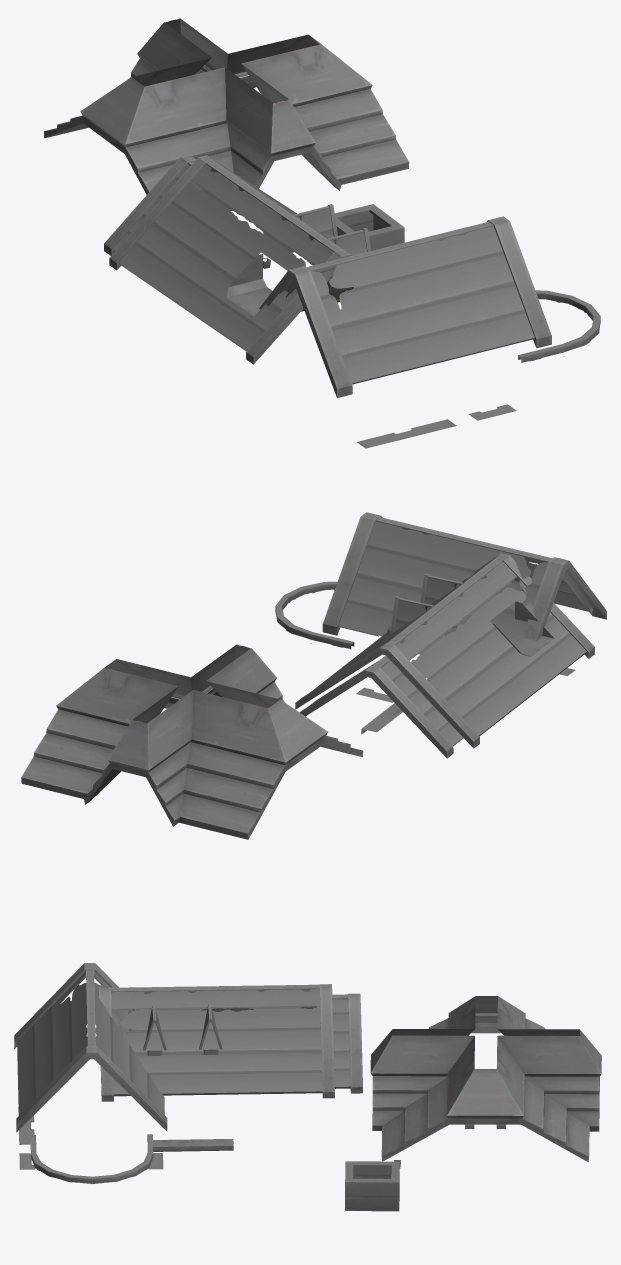
Rendered from pref_sm_garden_house_vertexcolor05_lv2.fbx.
3 renders of one model, top to bottom at view 1: azimuth 30°, elevation 25°; view 2: azimuth 150°, elevation 25°; view 3: azimuth 270°, elevation 25°, orthographic. The views are drawn at different scales.
Parts seen in each view (by area): view 1: pref_sm_garden_house_vertexcolor05_lv2; view 2: pref_sm_garden_house_vertexcolor05_lv2; view 3: pref_sm_garden_house_vertexcolor05_lv2.
Boxes of the visible parts, x1,y1,x2,y2 form: pref_sm_garden_house_vertexcolor05_lv2: [44, 18, 600, 448]; pref_sm_garden_house_vertexcolor05_lv2: [21, 512, 606, 839]; pref_sm_garden_house_vertexcolor05_lv2: [14, 963, 601, 1211].
Size of the model in its own units: 11.93 by 6.27 by 19.93.
